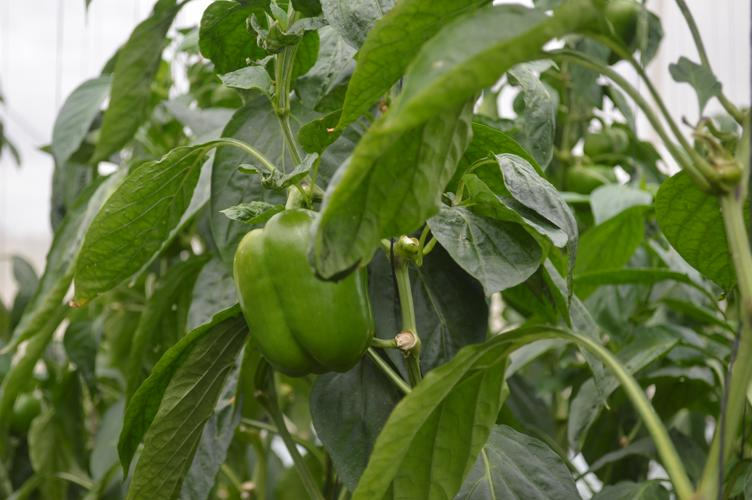BellPepper: (223, 200, 379, 384)
